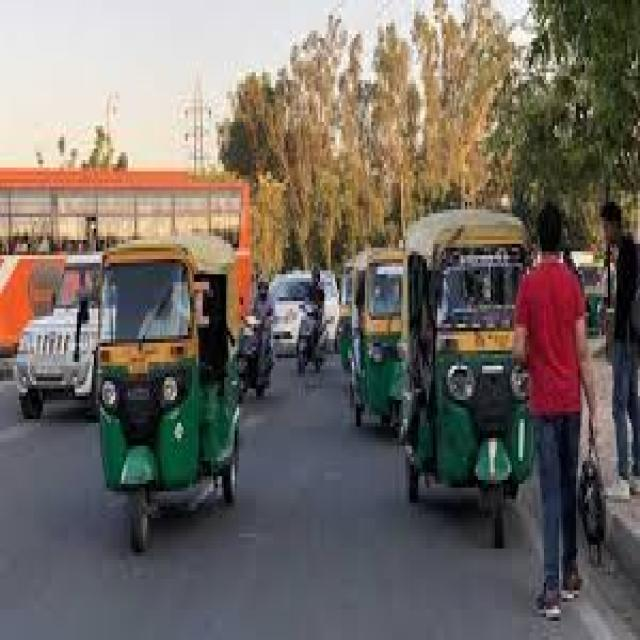bus: (0, 168, 250, 358)
car: (269, 270, 337, 358)
motorcycle: (239, 316, 271, 396), (297, 305, 318, 377)
person: (512, 202, 593, 621), (602, 202, 638, 495), (254, 282, 271, 328), (311, 267, 322, 316)
three wheeler: (100, 236, 237, 552), (403, 210, 531, 545), (350, 248, 403, 430), (339, 263, 352, 370)
van: (15, 255, 100, 419)
